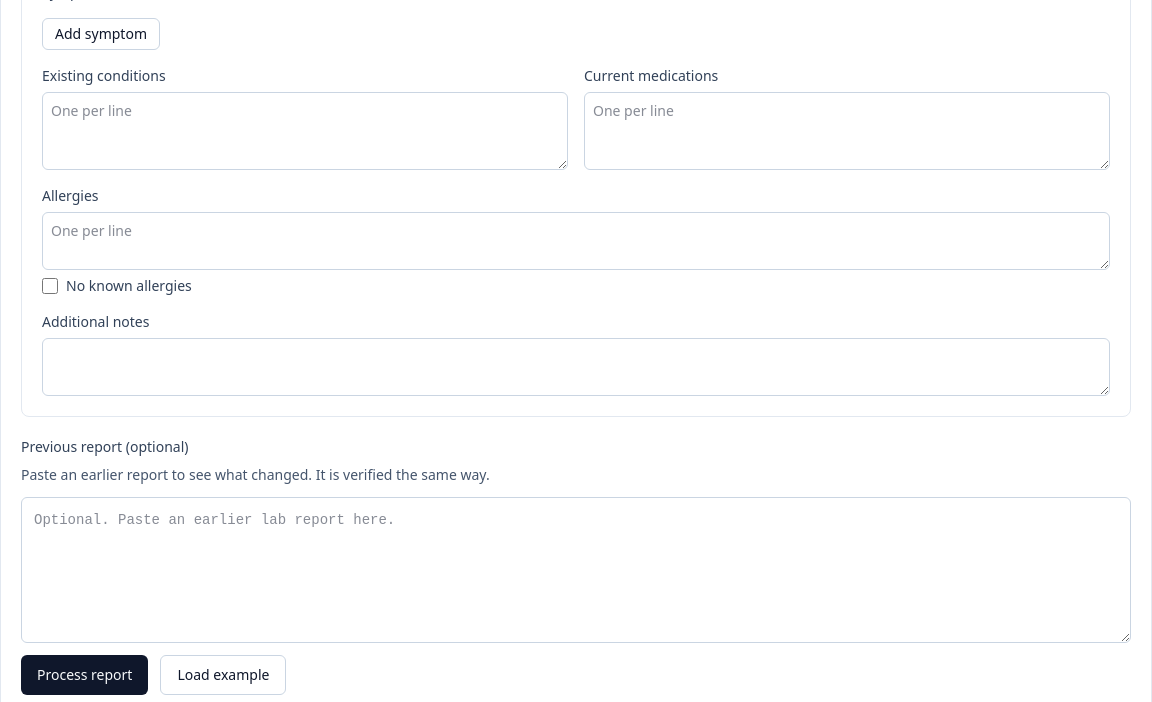
Test: ReportAnalyzer — previous report comparison › renders the comparison table when the server returns rows
This screenshot has width=1152, height=702.
(page scrolled)
Click the button "Load example" at [223, 675], box [160,655,286,695]
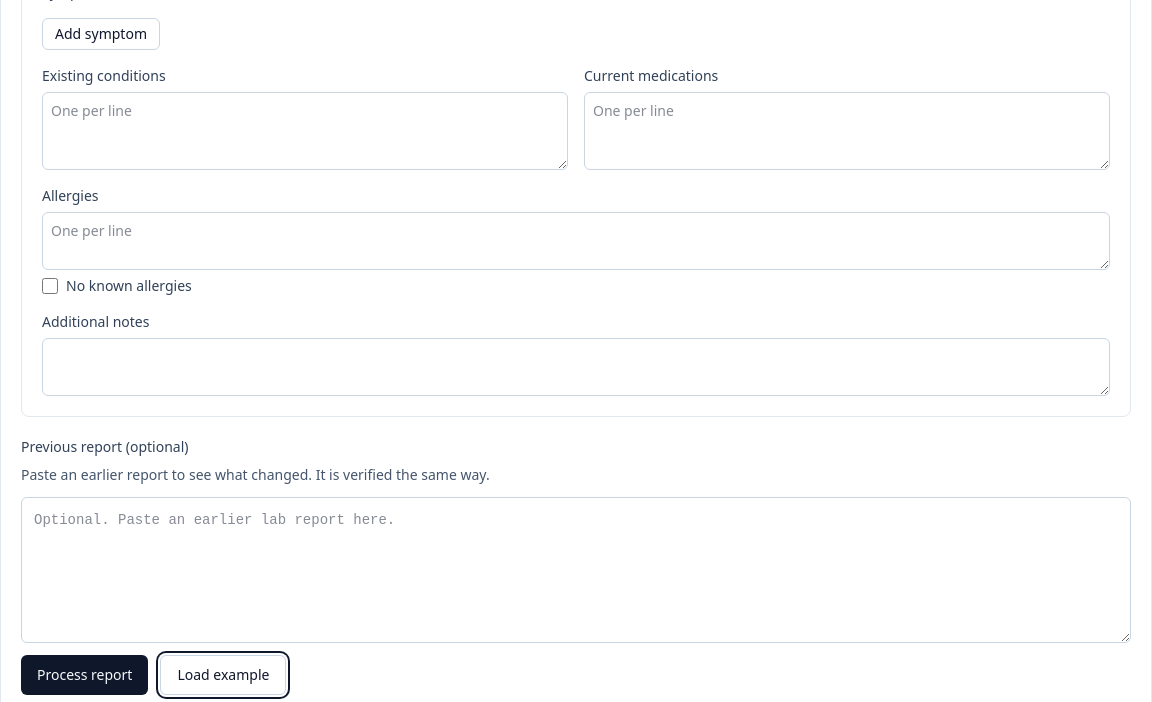
Click the button "Process report" at [85, 675], box [21,655,148,695]
(page scrolled)
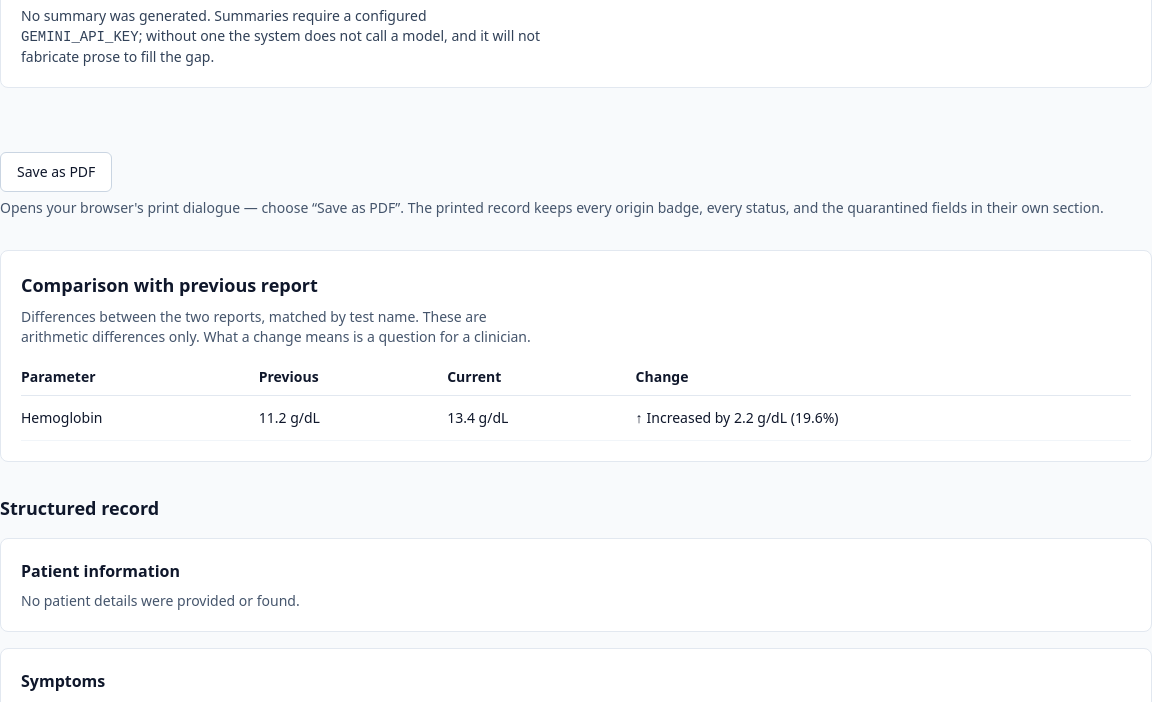
Result: the element "Comparison with previous report" is shown at [0,250,1151,462]
